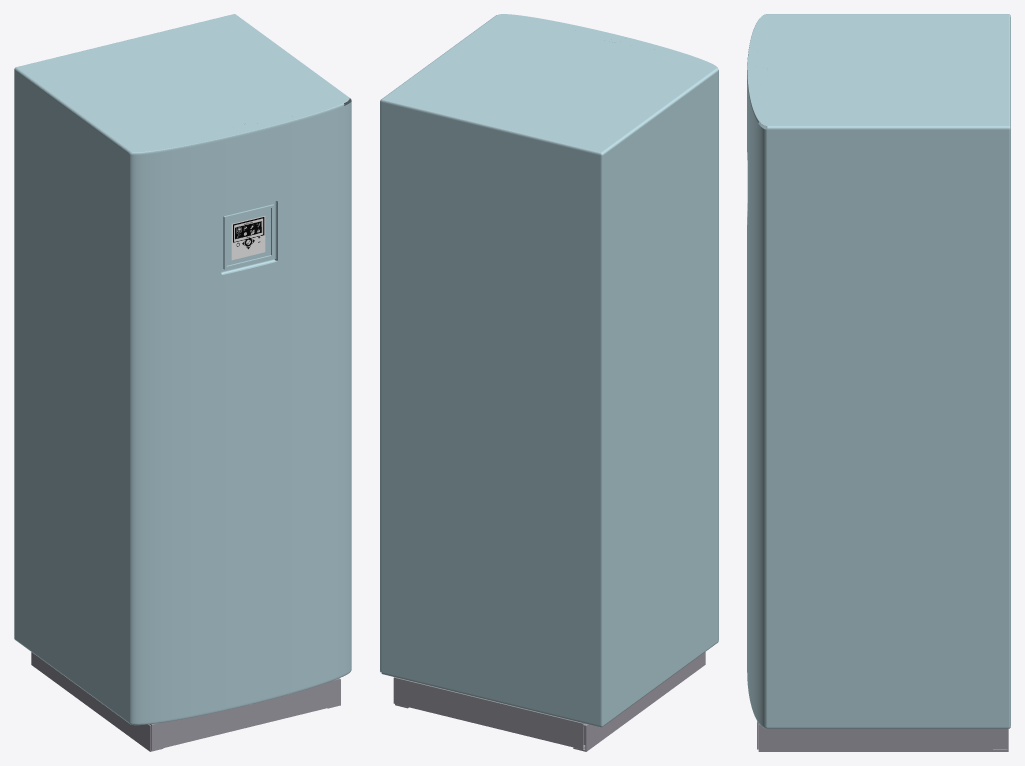
The model's file is boiler.fbx.
3 views of the same model, side by side, from view 1: azimuth 30°, elevation 25°; view 2: azimuth 150°, elevation 25°; view 3: azimuth 270°, elevation 25° (orthographic). The views are drawn at different scales.
Visible parts, largest first — view 1: ecodan_tank; view 2: ecodan_tank; view 3: ecodan_tank.
Boxes of the visible parts, x1,y1,x2,y2 form: ecodan_tank: (14, 14, 351, 751); ecodan_tank: (380, 14, 718, 751); ecodan_tank: (747, 14, 1010, 751).
Bounding box in the file's own units: 47.86 × 124 × 46.78.
